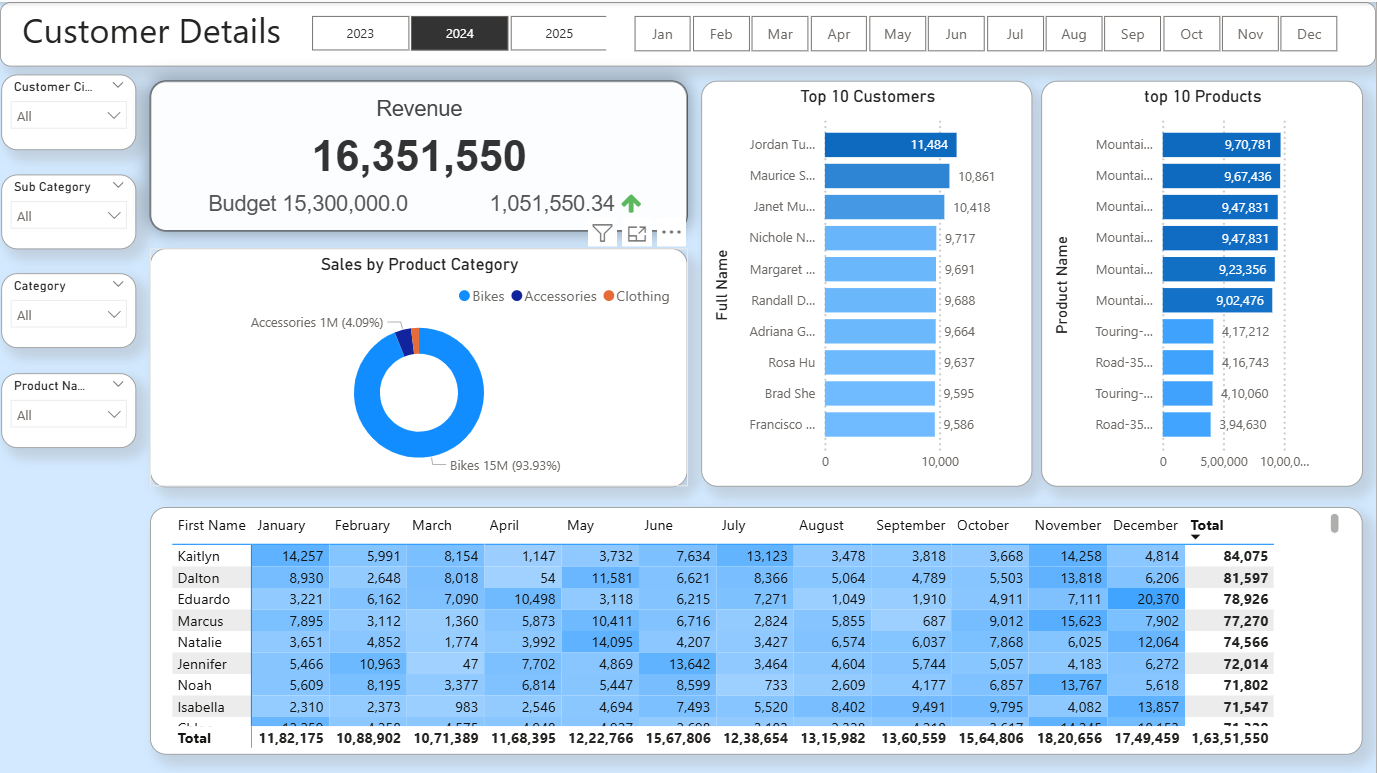

Layout of this report page (visuals, bound fields, positions):
{"tool":"powerbi","page":{"name":"Customer Details","canvas":[1280,720],"ordinal":1},"visuals":[{"type":"textbox","box":[0,0,1280.3,60.4],"z":0},{"type":"slicer","fields":{"Values":["Dim_Customer.Customer City"]},"box":[1.4,67.5,125.3,70],"z":1000},{"type":"slicer","fields":{"Values":["Dim_Product.Sub Category"]},"box":[1.4,160.6,125.6,69.8],"z":2000},{"type":"slicer","fields":{"Values":["Dim_Product.Product Category"]},"box":[1.4,252.5,125.6,69.8],"z":3000},{"type":"slicer","fields":{"Values":["Dim_Product.Product Name"]},"box":[1.4,345.5,125.6,69.8],"z":4000},{"type":"slicer","fields":{"Values":["Dim_Calendar csv.Year"]},"box":[264,5.8,325.6,46.5],"z":5000},{"type":"slicer","fields":{"Values":["Dim_Calendar csv.MonthShort"]},"box":[564.3,5.7,704.3,47.1],"z":6000},{"type":"BBED0A4D4D8D44CE93CF2DAFADEE466C","fields":{"actual":["FACT_InternetSales.Sales"],"target1":["FACT_Budget.Budget Amount"],"target2":["Key Measures.Sales - Budget"]},"box":[140,73.8,500,140],"z":7000},{"type":"donutChart","fields":{"Category":["Dim_Product.Product Category"],"Y":["Key Measures.Sales"]},"box":[140,228.8,500,222.5],"z":8000},{"type":"barChart","title":"Top 10 Customers","fields":{"Y":["Key Measures.Sales"],"Category":["Dim_Customer.Full Name"]},"box":[652.3,73.3,308.1,377.9],"z":9000},{"type":"barChart","title":"top 10 Products","fields":{"Y":["Key Measures.Sales"],"Category":["Dim_Product.Product Name"]},"box":[968.6,73.3,298.8,377.9],"z":10000},{"type":"pivotTable","fields":{"Values":["Key Measures.Sales"],"Rows":["Dim_Customer.First Name"],"Columns":["Dim_Customer.DateFirstPurchase.Variation.Date Hierarchy.Month"]},"box":[139.5,469.8,1127.9,230.2],"z":11000}]}

Visuals, with their boxes in screenshot pixels (x1, y1, x2, y2), scaled from the page's 1280x720 canvas onto the 1377x773 screenshot:
textbox: [0,0,1376,65]
slicer - Dim_Customer.Customer City: [2,72,136,148]
slicer - Dim_Product.Sub Category: [2,172,137,247]
slicer - Dim_Product.Product Category: [2,271,137,346]
slicer - Dim_Product.Product Name: [2,371,137,446]
slicer - Dim_Calendar csv.Year: [284,6,634,56]
slicer - Dim_Calendar csv.MonthShort: [607,6,1365,57]
BBED0A4D4D8D44CE93CF2DAFADEE466C - FACT_InternetSales.Sales x FACT_Budget.Budget Amount: [151,79,688,230]
donutChart - Dim_Product.Product Category x Key Measures.Sales: [151,246,688,485]
"Top 10 Customers" barChart: [702,79,1033,484]
"top 10 Products" barChart: [1042,79,1363,484]
pivotTable - Key Measures.Sales x Dim_Customer.First Name: [150,504,1363,752]
